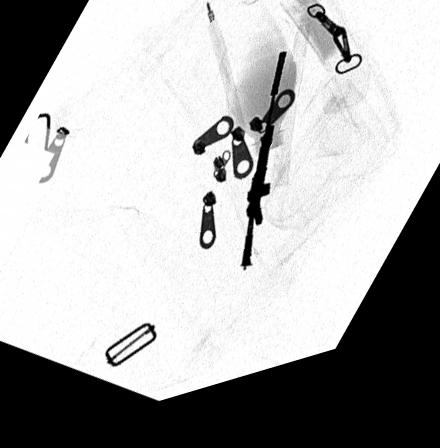Gun: (235, 68, 287, 283)
